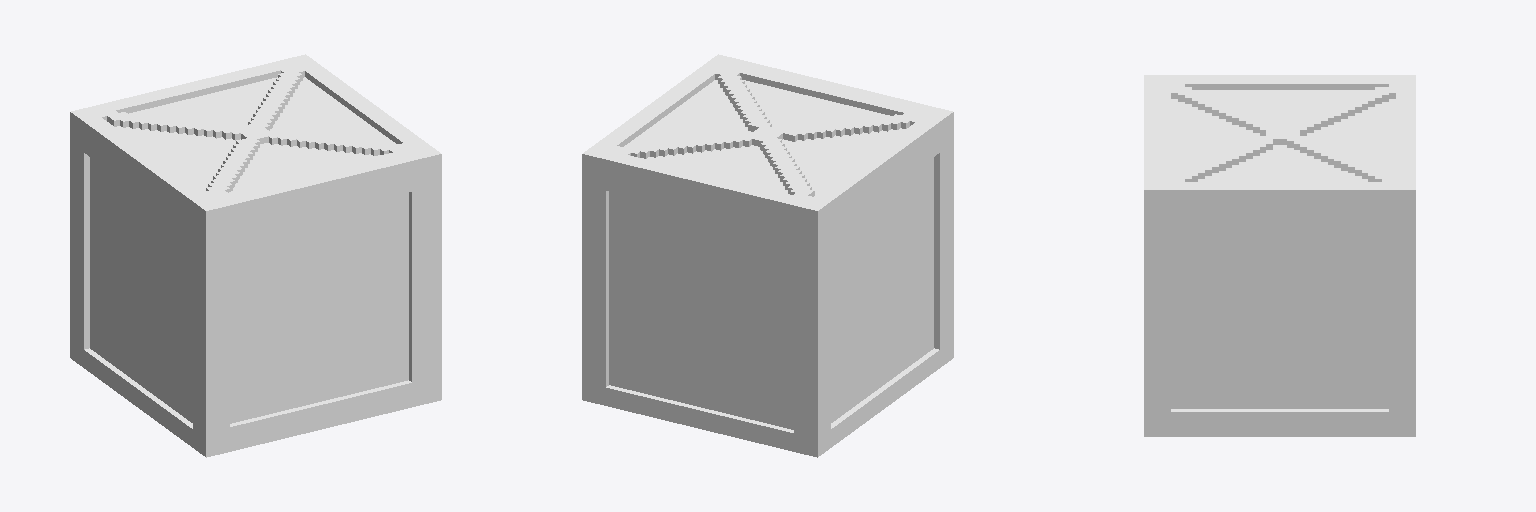
The model's file is interrogacion.obj.
3 views of the same model, side by side, from view 1: azimuth 30°, elevation 25°; view 2: azimuth 150°, elevation 25°; view 3: azimuth 270°, elevation 25° (orthographic).
Parts seen in each view (by area): view 1: object 1; view 2: object 1; view 3: object 1.
Boxes of the visible parts, x1=… form: object 1: x1=70, y1=54, x2=441, y2=457; object 1: x1=582, y1=54, x2=953, y2=457; object 1: x1=1144, y1=75, x2=1415, y2=436.
Bounding box in the file's own units: 4 × 4 × 4.